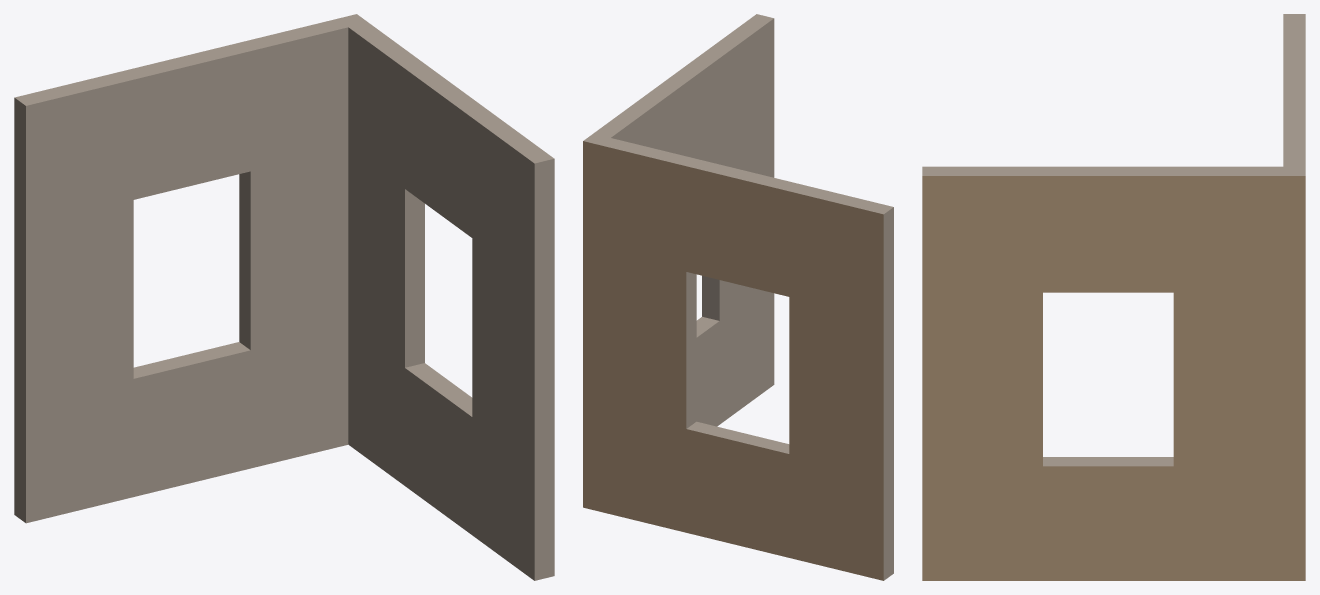
The model's file is Wall2_C4_09.fbx.
3 views of the same model, side by side, from view 1: azimuth 30°, elevation 25°; view 2: azimuth 150°, elevation 25°; view 3: azimuth 270°, elevation 25° (orthographic). The views are drawn at different scales.
Visible parts, largest first — view 1: Wall2_C4_09; view 2: Wall2_C4_09; view 3: Wall2_C4_09.
Part boxes in pixels (x1,y1,x2,y2): Wall2_C4_09: [14, 14, 554, 580]; Wall2_C4_09: [583, 14, 893, 580]; Wall2_C4_09: [922, 14, 1305, 580].
Bounding box in the file's own units: 258 × 300 × 258.
